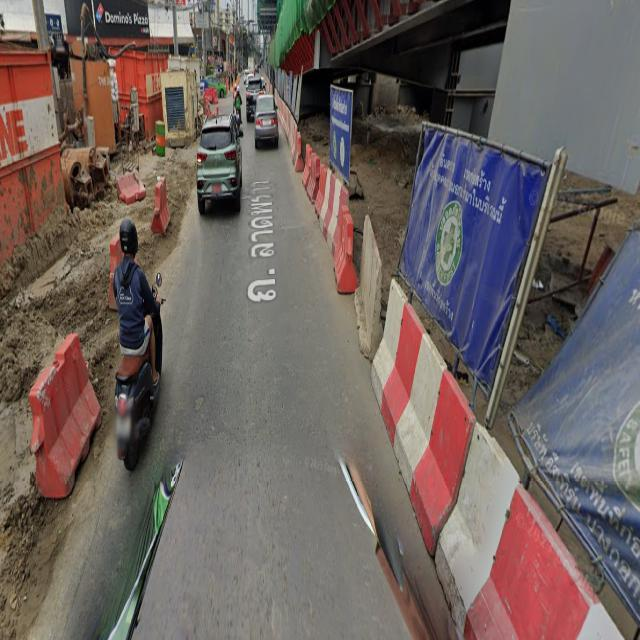fallen_object: (450, 413, 640, 640), (362, 279, 474, 540), (25, 323, 113, 500), (297, 146, 362, 289), (330, 216, 384, 343), (105, 159, 169, 243), (279, 93, 305, 175)
